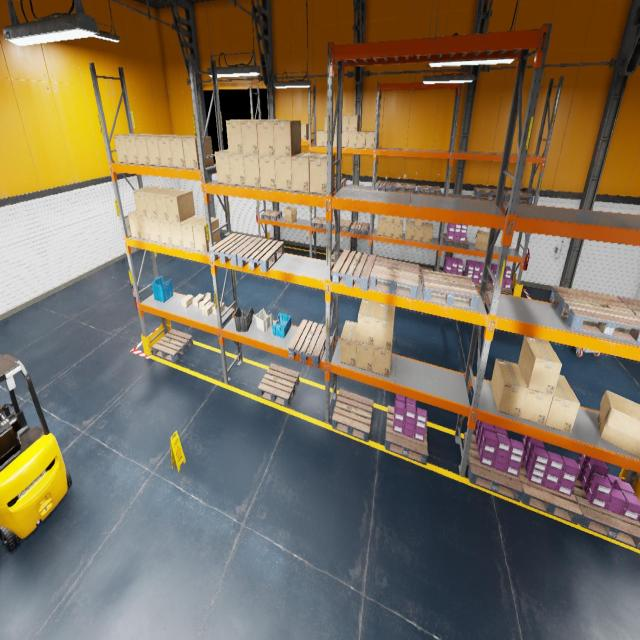box: (596, 390, 640, 458), (518, 336, 562, 396), (491, 358, 527, 418), (518, 364, 552, 425), (545, 375, 580, 433), (309, 153, 335, 194), (182, 136, 214, 169), (374, 302, 395, 351), (292, 153, 318, 192), (357, 298, 378, 346), (273, 120, 301, 156), (166, 189, 196, 222), (192, 217, 220, 252), (372, 332, 393, 377), (257, 120, 284, 155), (180, 215, 206, 250), (157, 135, 184, 167), (154, 188, 181, 220), (241, 120, 266, 154), (133, 186, 160, 217), (169, 136, 195, 168), (146, 134, 172, 166), (124, 134, 152, 163), (135, 134, 162, 164), (144, 187, 170, 218), (340, 320, 357, 366), (226, 120, 248, 154), (114, 133, 138, 163), (275, 156, 292, 190), (258, 156, 276, 188), (243, 154, 260, 187), (215, 149, 231, 184), (356, 342, 374, 371), (229, 154, 245, 186), (169, 221, 183, 247), (158, 218, 172, 244), (128, 210, 141, 238), (148, 218, 162, 242), (138, 216, 151, 240), (475, 230, 489, 251), (284, 206, 297, 223), (199, 292, 211, 309), (423, 223, 433, 243), (404, 220, 414, 240), (348, 115, 359, 132), (377, 217, 386, 236), (393, 221, 403, 238), (365, 131, 375, 148), (357, 131, 367, 148), (202, 302, 214, 316), (212, 302, 225, 314), (181, 294, 193, 307), (192, 294, 205, 306), (414, 226, 424, 241), (348, 132, 357, 148), (385, 222, 394, 237), (342, 115, 350, 131), (317, 130, 324, 146), (301, 124, 308, 139), (342, 132, 348, 147), (394, 216, 403, 224), (415, 219, 425, 226), (386, 215, 394, 223), (333, 115, 337, 131), (324, 115, 327, 131), (333, 132, 336, 147), (324, 132, 327, 146)
forklift: (0, 354, 72, 552)
pallets: (549, 286, 640, 344), (572, 477, 640, 549), (463, 432, 523, 502), (519, 460, 582, 525), (384, 405, 428, 465), (421, 270, 479, 310), (332, 389, 373, 442), (369, 257, 418, 299), (332, 249, 376, 291), (258, 363, 299, 407), (288, 319, 326, 366), (237, 238, 284, 272), (209, 233, 256, 265), (152, 329, 193, 362), (618, 296, 640, 317), (473, 188, 504, 202), (443, 233, 469, 249), (462, 274, 487, 290), (487, 279, 512, 295), (504, 190, 534, 203), (350, 221, 370, 236), (332, 218, 352, 232), (393, 182, 416, 193), (261, 209, 282, 221), (312, 217, 333, 229), (375, 180, 395, 192), (417, 185, 441, 195), (418, 267, 433, 278), (331, 252, 342, 262), (335, 177, 346, 187), (352, 258, 367, 265), (272, 240, 284, 247)
